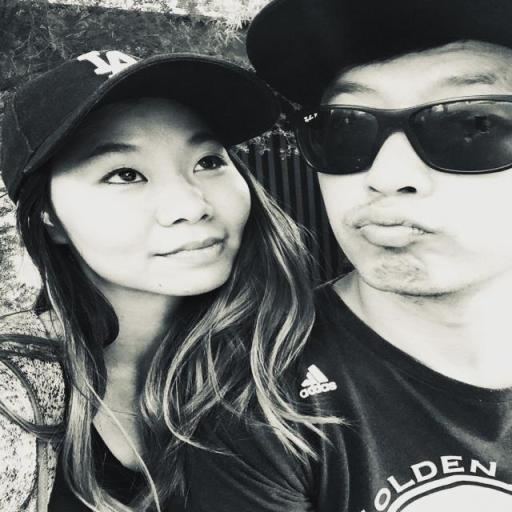Adidas: (296, 360, 340, 400)
